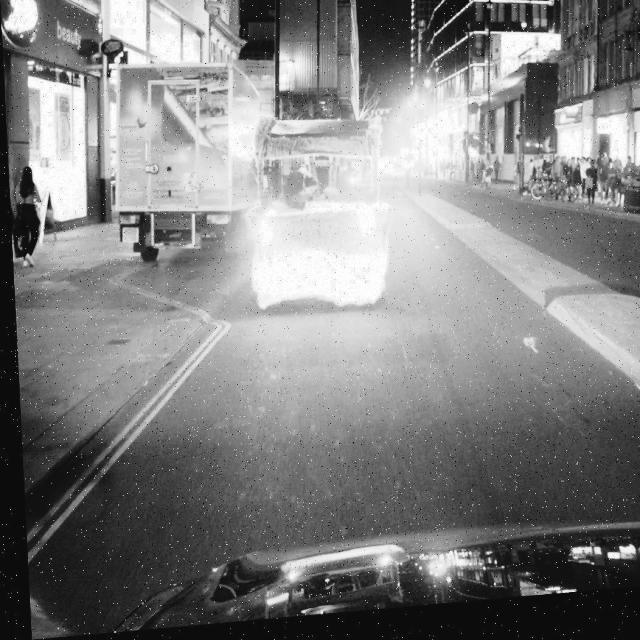Motorcycle: (249, 116, 388, 311)
Truck: (107, 56, 269, 272)
